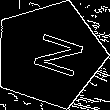N_W: (18, 27, 81, 82)
